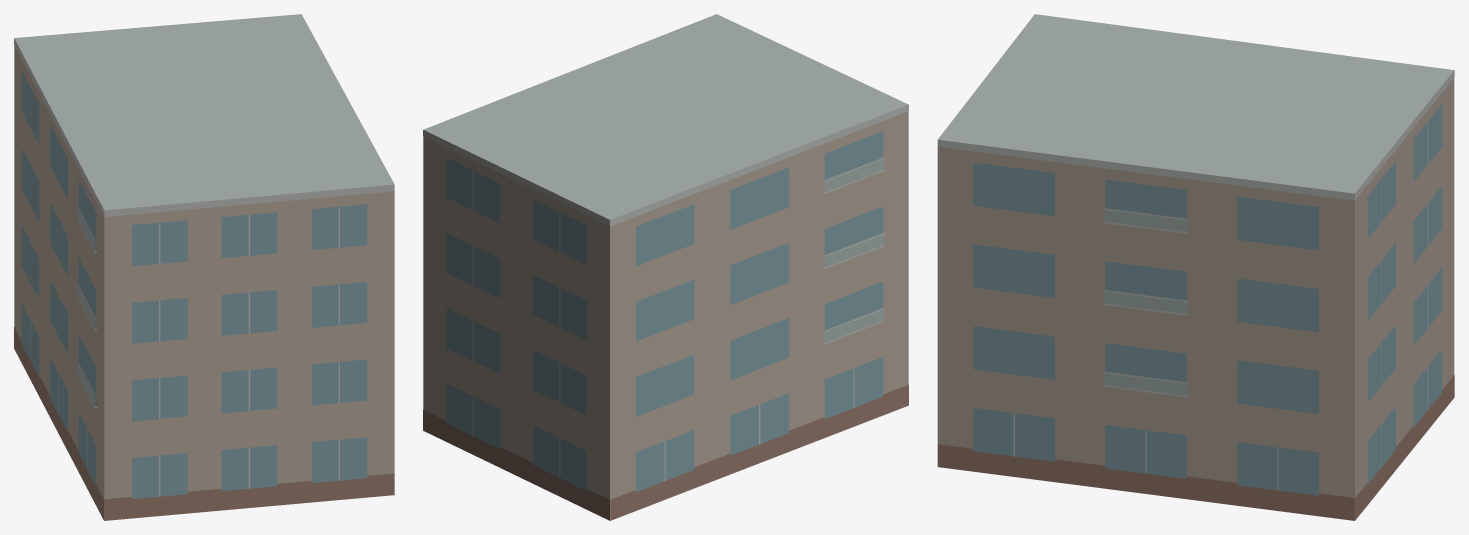
File: survey-upis-33039005.glb
3 renders of one model, left to right at view 1: azimuth 30°, elevation 25°; view 2: azimuth 150°, elevation 25°; view 3: azimuth 270°, elevation 25°, orthographic. The views are drawn at different scales.
Visible parts, largest first — view 1: survey-upis-33039005.tmp; view 2: survey-upis-33039005.tmp; view 3: survey-upis-33039005.tmp.
Part boxes in pixels (x1,y1,x2,y2): survey-upis-33039005.tmp: [14, 14, 394, 520]; survey-upis-33039005.tmp: [423, 14, 908, 520]; survey-upis-33039005.tmp: [937, 14, 1454, 520].
Bounding box in the file's own units: 13.19 × 11.2 × 16.04.
